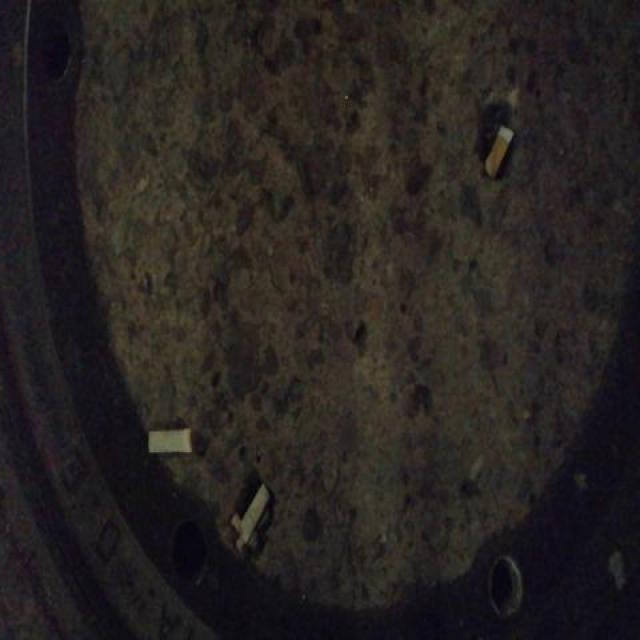non-organic waste: (234, 479, 275, 548), (481, 124, 519, 185), (143, 424, 196, 457)
